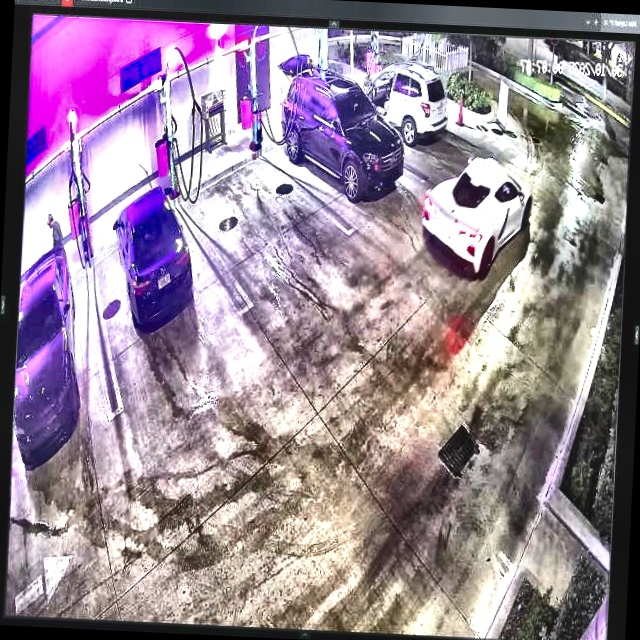Car: (278, 70, 407, 203), (419, 152, 534, 280), (110, 185, 195, 333), (354, 61, 450, 148)
